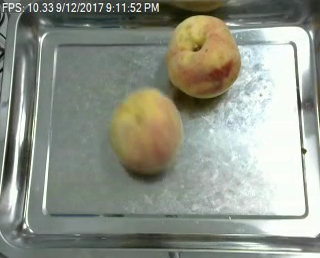Peach: (109, 87, 183, 174), (166, 14, 241, 97)
